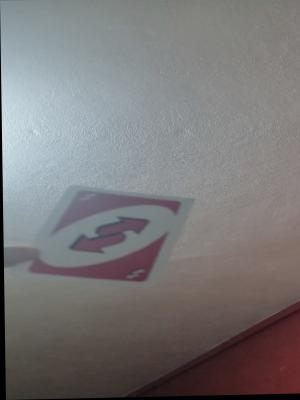reverse: (59, 209, 156, 260)
